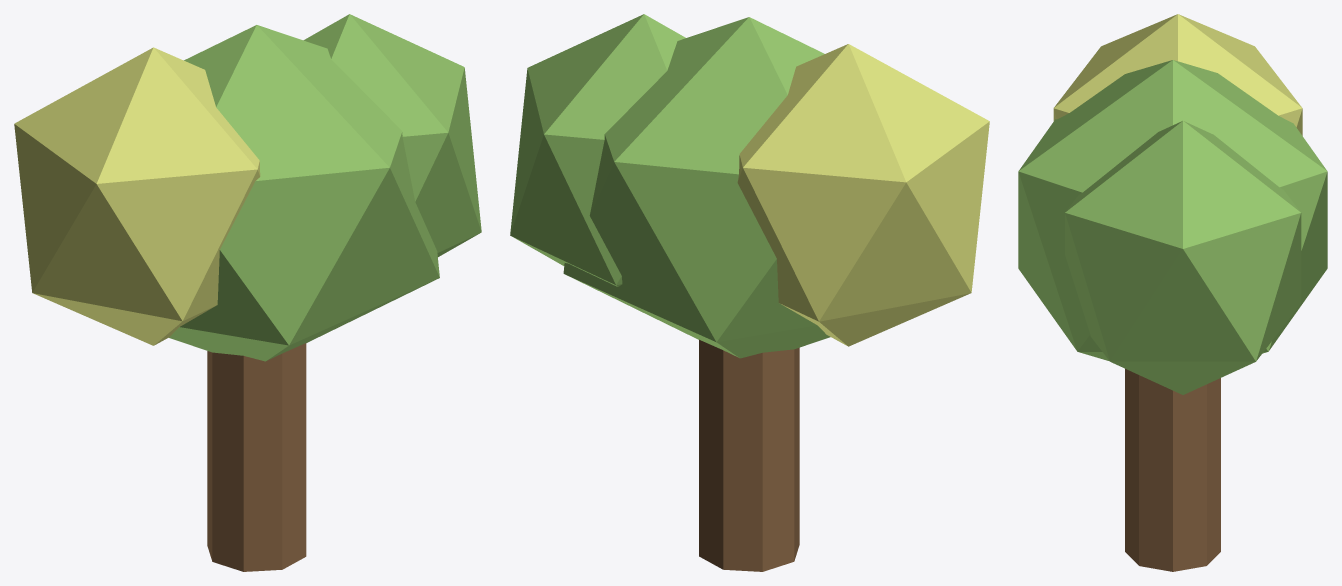
Rendered from tree_broad_04.glb.
3 renders of one model, left to right at view 1: azimuth 30°, elevation 25°; view 2: azimuth 150°, elevation 25°; view 3: azimuth 270°, elevation 25°, orthographic. The views are drawn at different scales.
Visible parts, largest first — view 1: BroadTree_04_CrownA.001, BroadTree_04_CrownB.001, BroadTree_04_Trunk.001, BroadTree_04_CrownC.001; view 2: BroadTree_04_CrownB.001, BroadTree_04_CrownA.001, BroadTree_04_CrownC.001, BroadTree_04_Trunk.001; view 3: BroadTree_04_CrownC.001, BroadTree_04_CrownA.001, BroadTree_04_Trunk.001, BroadTree_04_CrownB.001.
Boxes of the visible parts, left/top/right/bottom form: BroadTree_04_CrownA.001: left=169, top=25, right=439, bottom=361; BroadTree_04_CrownB.001: left=14, top=47, right=260, bottom=345; BroadTree_04_Trunk.001: left=207, top=343, right=306, bottom=571; BroadTree_04_CrownC.001: left=303, top=14, right=481, bottom=256; BroadTree_04_CrownB.001: left=737, top=44, right=989, bottom=346; BroadTree_04_CrownA.001: left=563, top=17, right=830, bottom=358; BroadTree_04_CrownC.001: left=510, top=14, right=685, bottom=286; BroadTree_04_Trunk.001: left=699, top=339, right=799, bottom=571; BroadTree_04_CrownC.001: left=1065, top=121, right=1301, bottom=394; BroadTree_04_CrownA.001: left=1018, top=60, right=1327, bottom=361; BroadTree_04_Trunk.001: left=1125, top=369, right=1220, bottom=571; BroadTree_04_CrownB.001: left=1053, top=14, right=1302, bottom=135.
Bounding box in the file's own units: 1.86 × 2.15 × 1.22.
